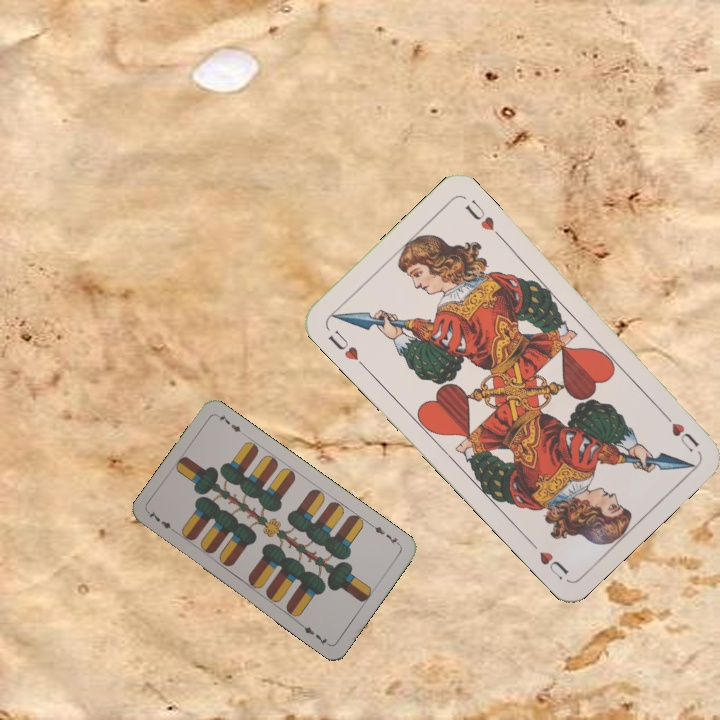E7: (145, 507, 180, 536), (367, 520, 403, 548)
HU: (657, 406, 702, 455), (323, 325, 361, 363)
